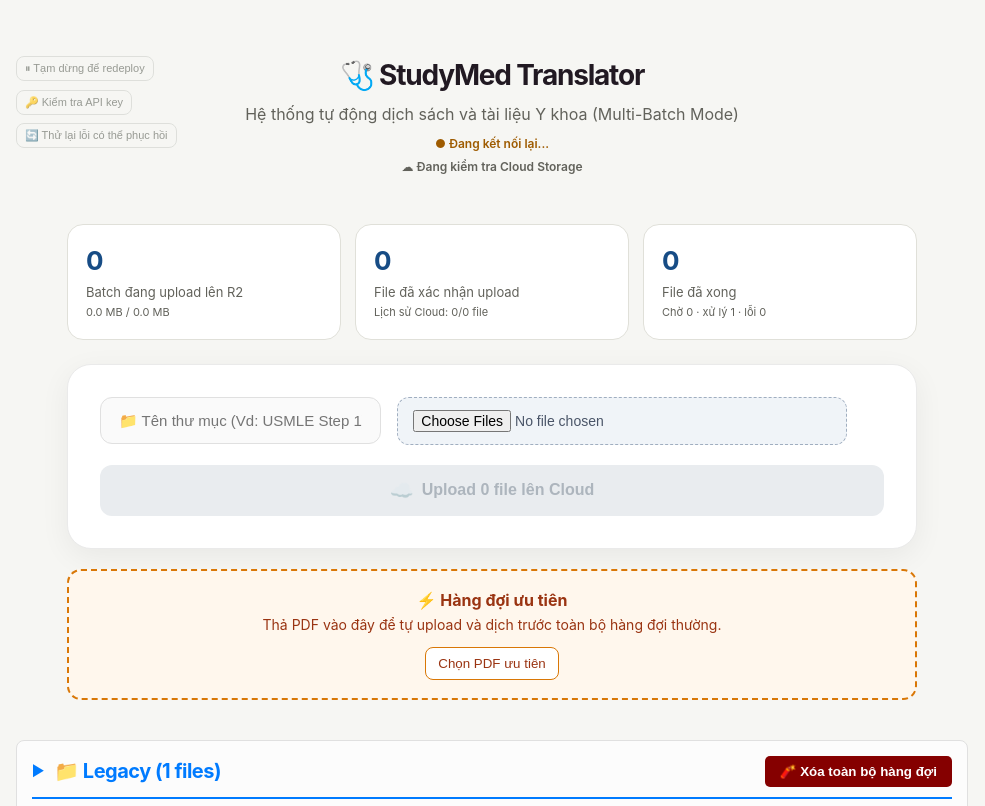
it: App Cloud Uploader › keeps the legacy processing display unchanged and omits quality details
Click the button "▼ 📁 Legacy (1 files)" at (126, 771), box 32,757 -> 221,785
(page scrolled)
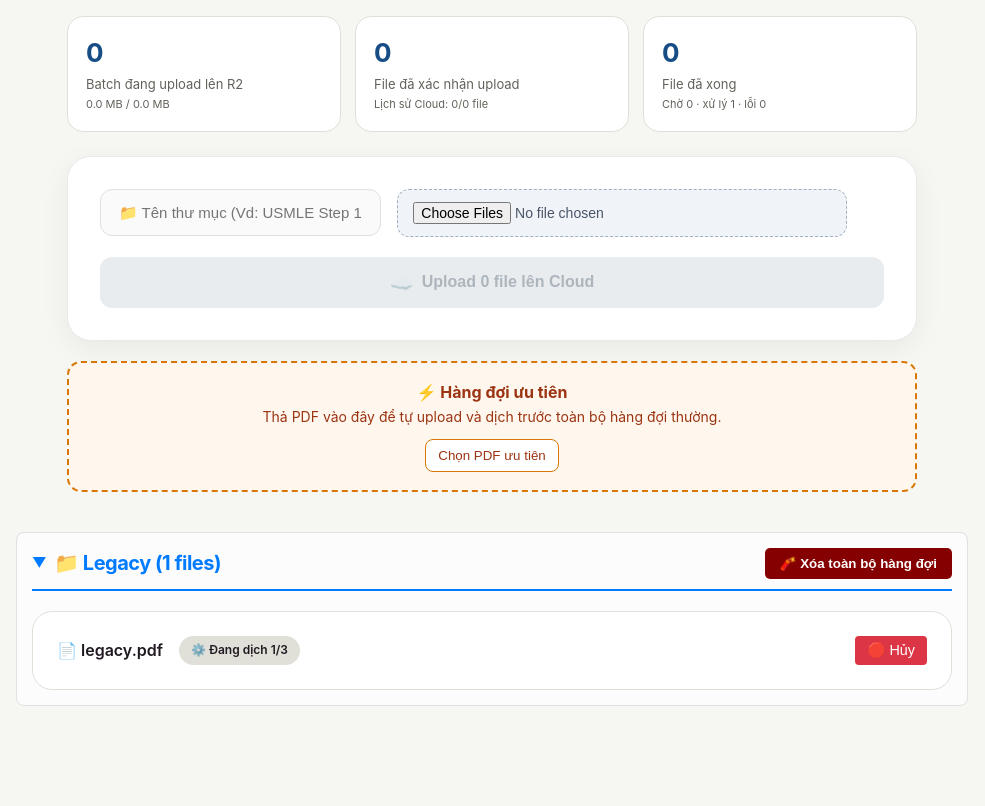
Check: the text "⚙️ Đang dịch 1/3" is shown, box 179,636 -> 300,665
